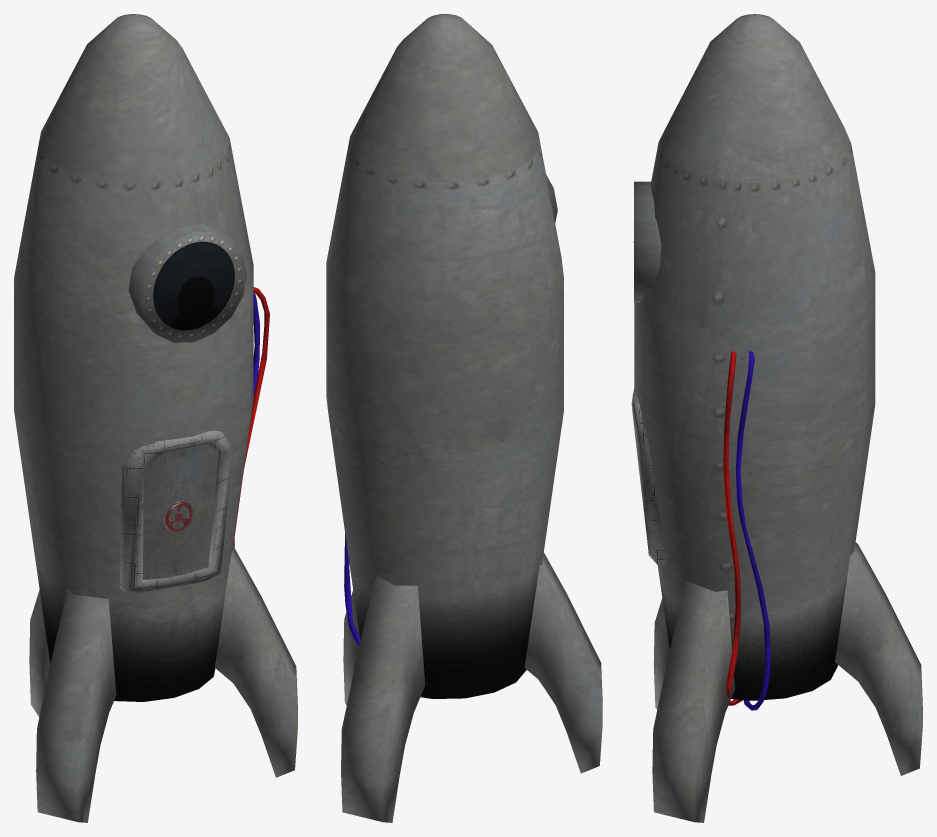
The model's file is rocket_hi.glb.
The picture shows the model from 3 angles, left to right: view 1: azimuth 30°, elevation 25°; view 2: azimuth 150°, elevation 25°; view 3: azimuth 270°, elevation 25°; orthographic projection.
Parts seen in each view (by area): view 1: shipthing2.png__, window.jpg__, door.JPG__, metaloverlap.png__, wires.jpg__; view 2: shipthing2.png__, wires.jpg__; view 3: shipthing2.png__, wires.jpg__, window.jpg__, metaloverlap.png__.
Boxes of the visible parts, bbox=[...] form: shipthing2.png__: bbox=[14, 14, 297, 822]; window.jpg__: bbox=[128, 223, 246, 342]; door.JPG__: bbox=[143, 444, 218, 579]; metaloverlap.png__: bbox=[119, 430, 232, 592]; wires.jpg__: bbox=[233, 287, 269, 547]; shipthing2.png__: bbox=[326, 14, 602, 822]; wires.jpg__: bbox=[344, 533, 360, 645]; shipthing2.png__: bbox=[634, 14, 922, 822]; wires.jpg__: bbox=[723, 351, 770, 710]; window.jpg__: bbox=[633, 181, 661, 302]; metaloverlap.png__: bbox=[632, 389, 666, 564].
Size of the model in its own units: 5.51 by 15.17 by 5.35.
6 materials, 5 textured.
